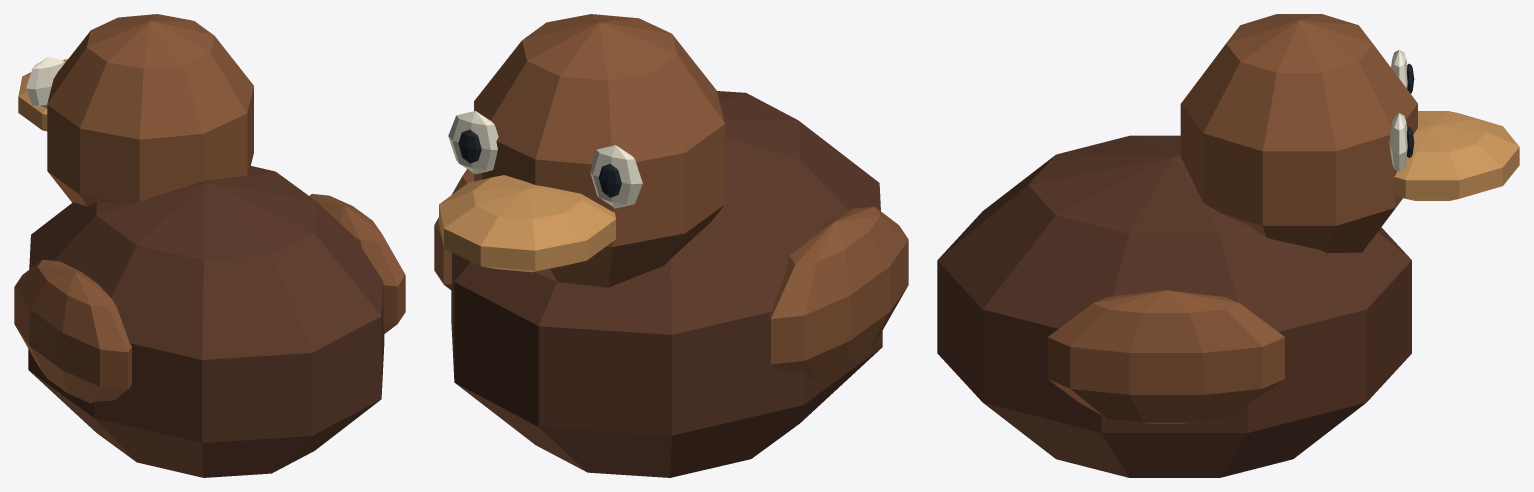
File: squeaker.glb
3 renders of one model, left to right at view 1: azimuth 30°, elevation 25°; view 2: azimuth 150°, elevation 25°; view 3: azimuth 270°, elevation 25°, orthographic. The views are drawn at different scales.
Visible parts, largest first — view 1: squeaker; view 2: squeaker; view 3: squeaker.
Part boxes in pixels (box(x1,y1,x2,y2)): squeaker: box(14, 14, 405, 477); squeaker: box(434, 14, 908, 477); squeaker: box(937, 14, 1519, 477).
Size of the model in its own units: 0.484 by 0.55 by 0.6637.
